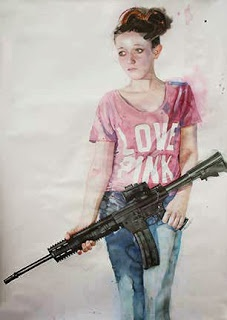ak47: (5, 151, 223, 287)
